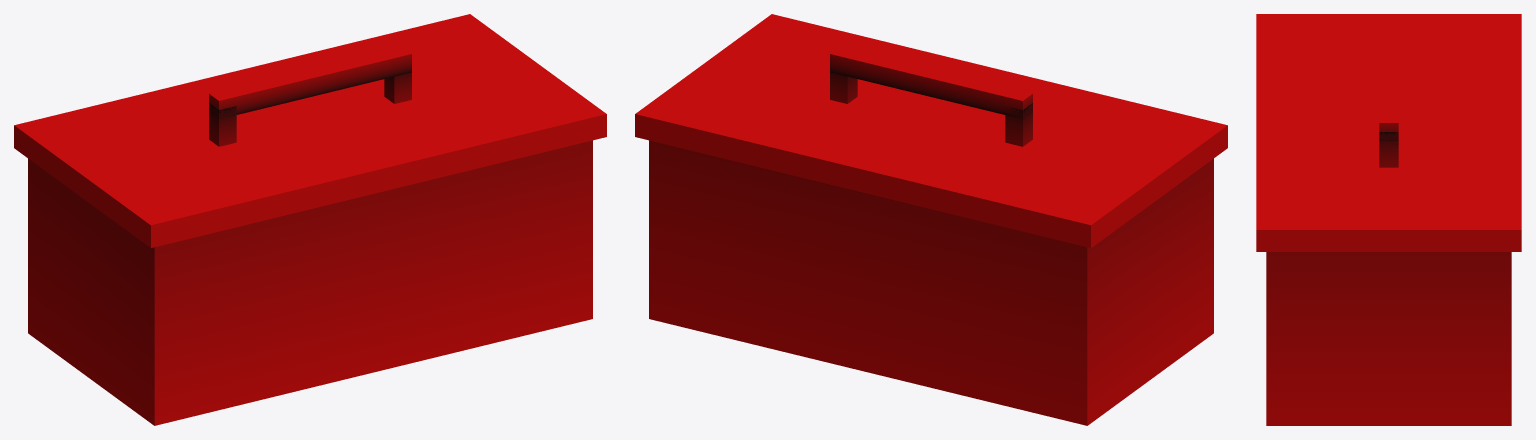
Rendered from tool_box.glb.
3 views of the same model, side by side, from view 1: azimuth 30°, elevation 25°; view 2: azimuth 150°, elevation 25°; view 3: azimuth 270°, elevation 25° (orthographic). The views are drawn at different scales.
Visible parts, largest first — view 1: tool_box; view 2: tool_box; view 3: tool_box.
Boxes of the visible parts, <box> form: tool_box: <box>14,14,606,425</box>; tool_box: <box>635,14,1227,425</box>; tool_box: <box>1256,14,1521,425</box>.
Bounding box in the file's own units: 1.04 × 0.55 × 0.54.
